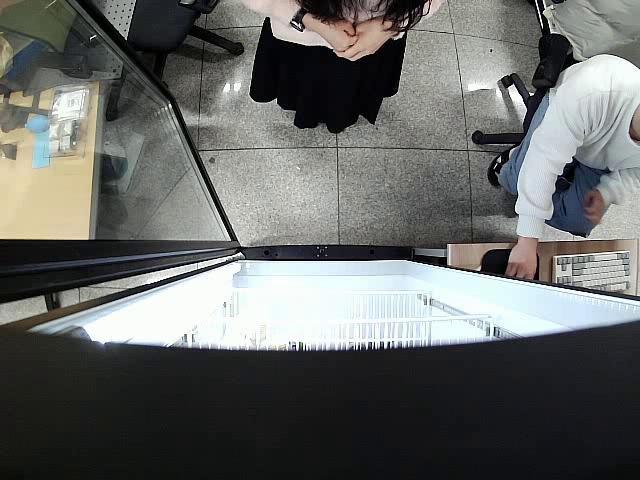00_hand: (504, 245, 538, 281)
